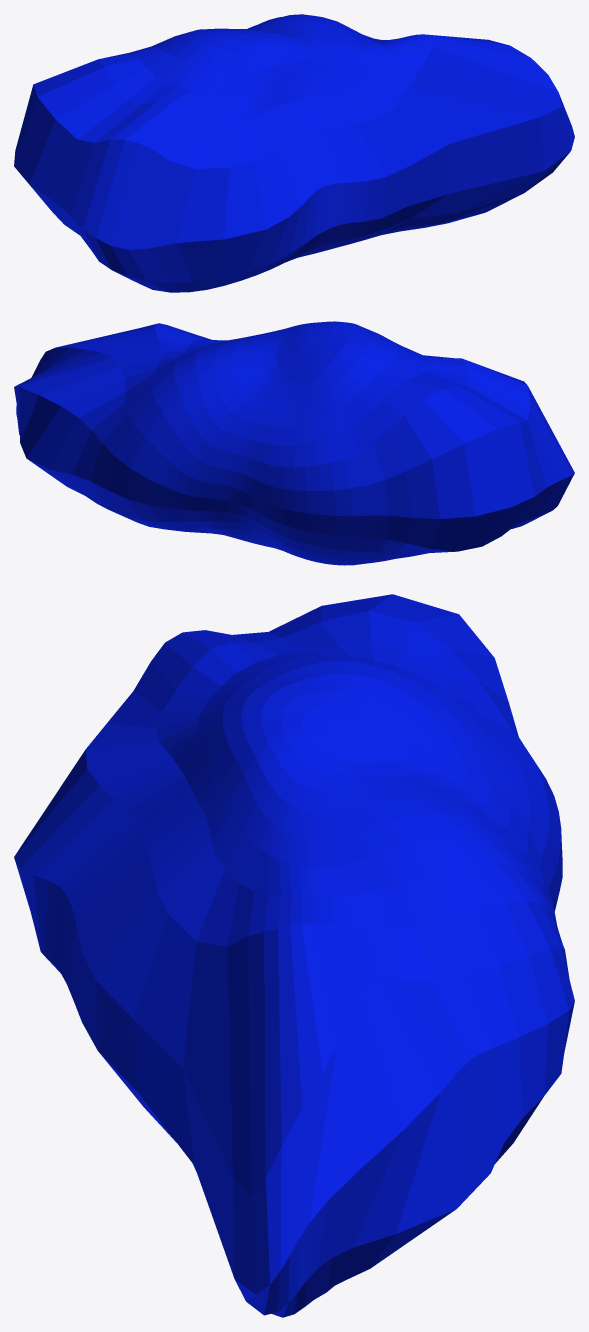
Rendered from cloud2.glb.
3 views of the same model, one above another, from view 1: azimuth 30°, elevation 25°; view 2: azimuth 150°, elevation 25°; view 3: azimuth 270°, elevation 25° (orthographic). The views are drawn at different scales.
Visible parts, largest first — view 1: Sphere; view 2: Sphere; view 3: Sphere.
Boxes of the visible parts, box(x1,y1,x2,y2) form: Sphere: box(14, 14, 574, 292); Sphere: box(14, 321, 574, 565); Sphere: box(14, 594, 574, 1317).
Size of the model in its own units: 8.12 by 3.36 by 4.17.
